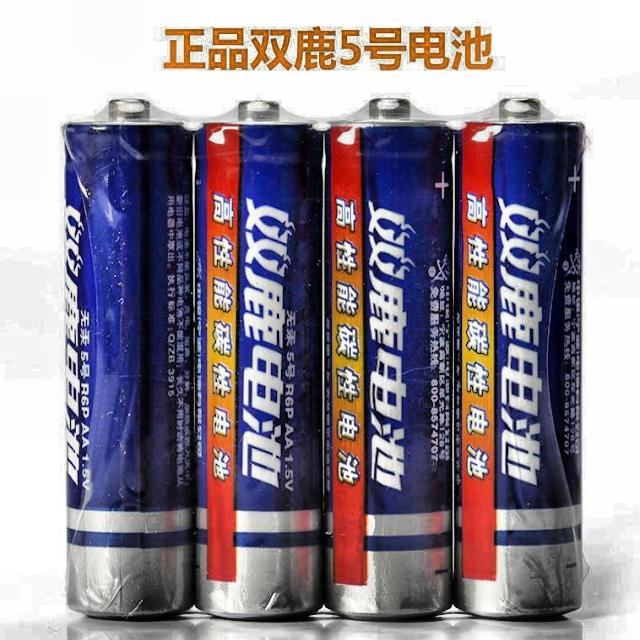Non-Valuable Waste - Batteries: (63, 99, 193, 618), (455, 99, 585, 617), (325, 99, 453, 618), (196, 100, 323, 618)
